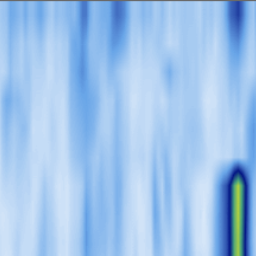defect: (221, 164, 249, 256), (229, 1, 242, 32)
